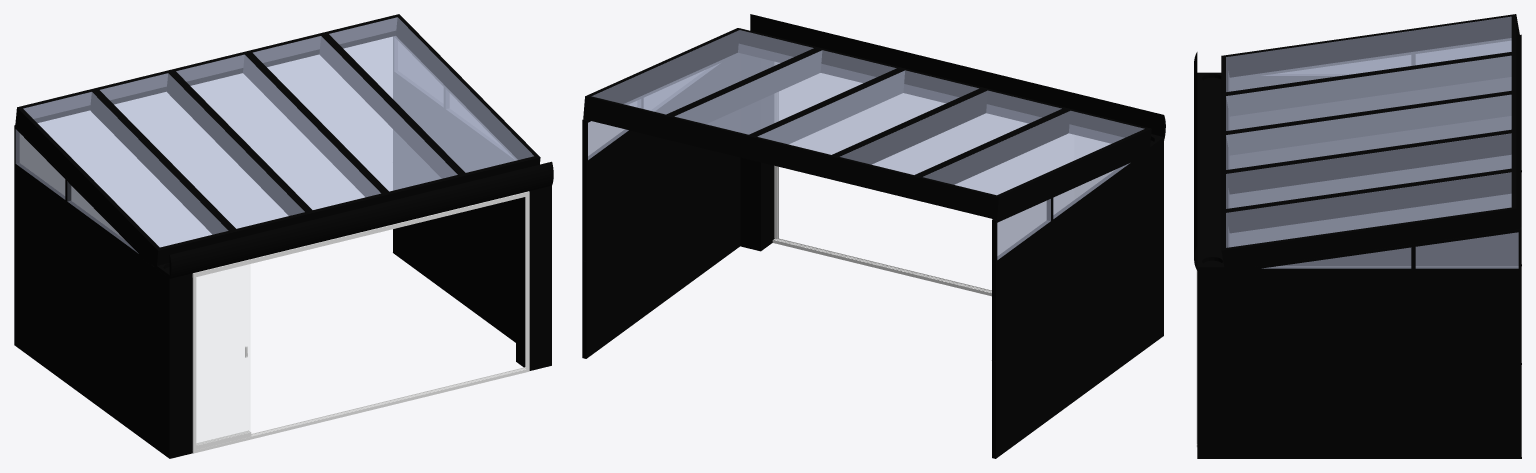
File: veranda-draco.glb
3 renders of one model, left to right at view 1: azimuth 30°, elevation 25°; view 2: azimuth 150°, elevation 25°; view 3: azimuth 270°, elevation 25°, orthographic. The views are drawn at different scales.
Parts seen in each view (by area): view 1: Component_, yan_kompoz, yan_komp01, ayaklar1, Glass_slid, YAN_CAM1, YAN_CAM2, yan_duvar1, yan_duvar2; view 2: Component_, yan_kompoz, yan_komp01, ayaklar1, YAN_CAM1, Glass_slid, yan_duvar1, YAN_CAM2, yan_duvar2; view 3: Component_, yan_komp01, yan_kompoz, ayaklar1, YAN_CAM2, yan_duvar2, YAN_CAM1, yan_duvar1, Glass_slid.
Part boxes in pixels (box(x1,y1,x2,y2)): Component_: box(15, 14, 553, 278); yan_kompoz: box(14, 165, 156, 448); yan_komp01: box(393, 73, 515, 342); ayaklar1: box(156, 185, 551, 458); Glass_slid: box(192, 191, 529, 453); YAN_CAM1: box(15, 129, 138, 253); YAN_CAM2: box(395, 38, 512, 157); yan_duvar1: box(14, 125, 155, 268); yan_duvar2: box(393, 36, 517, 160); Component_: box(583, 14, 1165, 219); yan_kompoz: box(992, 152, 1149, 458); yan_komp01: box(582, 53, 740, 358); ayaklar1: box(740, 54, 1163, 345); YAN_CAM1: box(997, 163, 1129, 259); Glass_slid: box(772, 62, 991, 296); yan_duvar1: box(992, 152, 1148, 263); YAN_CAM2: box(588, 64, 718, 159); yan_duvar2: box(582, 53, 736, 163); Component_: box(1194, 14, 1519, 270); yan_komp01: box(1225, 271, 1521, 458); yan_kompoz: box(1230, 78, 1521, 265); ayaklar1: box(1197, 271, 1224, 458); YAN_CAM2: box(1262, 232, 1518, 268); yan_duvar2: box(1227, 227, 1521, 270); YAN_CAM1: box(1266, 41, 1510, 75); yan_duvar1: box(1232, 34, 1521, 78); Glass_slid: box(1196, 270, 1197, 446).
Size of the model in its own units: 5.55 by 3.33 by 3.95.
